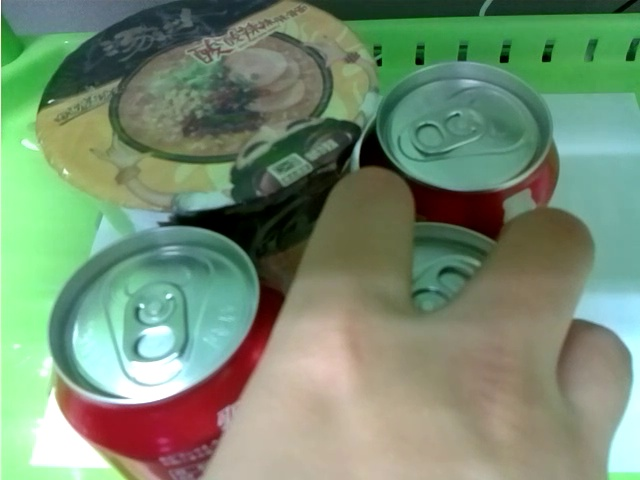cocacola: (41, 228, 270, 480), (361, 64, 560, 224), (400, 213, 498, 306)
hand: (214, 169, 633, 480)
noodles: (34, 1, 375, 251)
